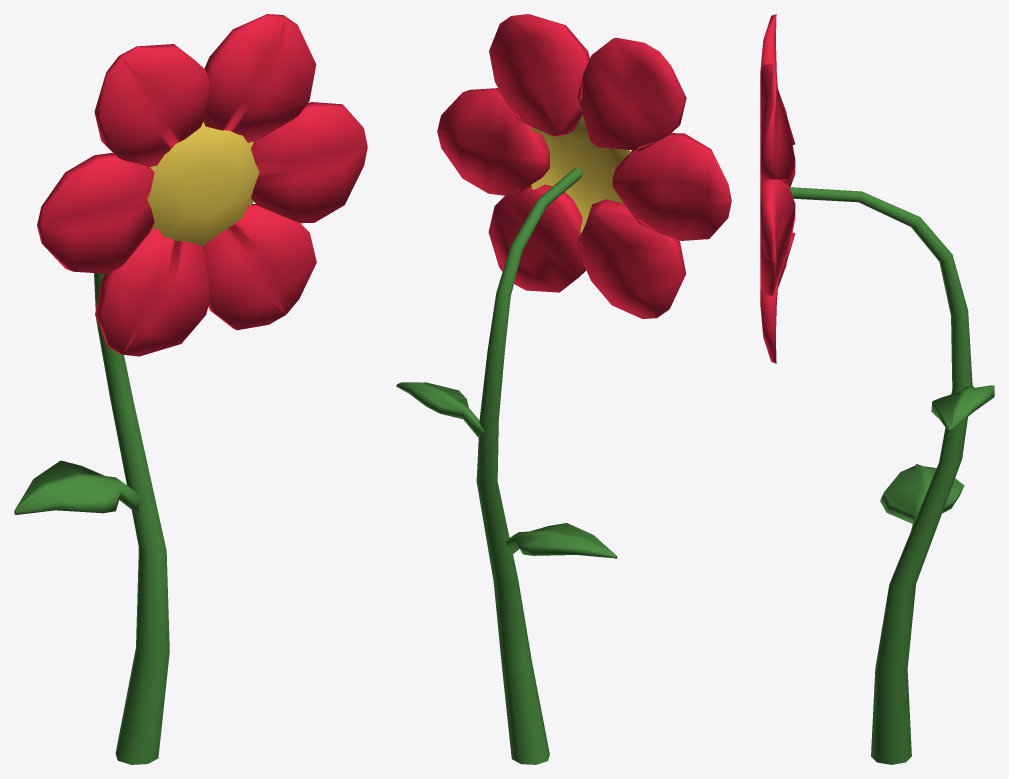
Rendered from FlorPuzzle.fbx.
The picture shows the model from 3 angles, left to right: view 1: azimuth 30°, elevation 25°; view 2: azimuth 150°, elevation 25°; view 3: azimuth 270°, elevation 25°; orthographic projection. The views are drawn at different scales.
Visible parts, largest first — view 1: CauleG; view 2: CauleG; view 3: CauleG.
Part boxes in pixels (left/top/right/bottom): CauleG: left=14, top=14, right=367, bottom=764; CauleG: left=396, top=14, right=731, bottom=764; CauleG: left=760, top=14, right=994, bottom=764.
Bounding box in the file's own units: 174 × 390 × 116.
